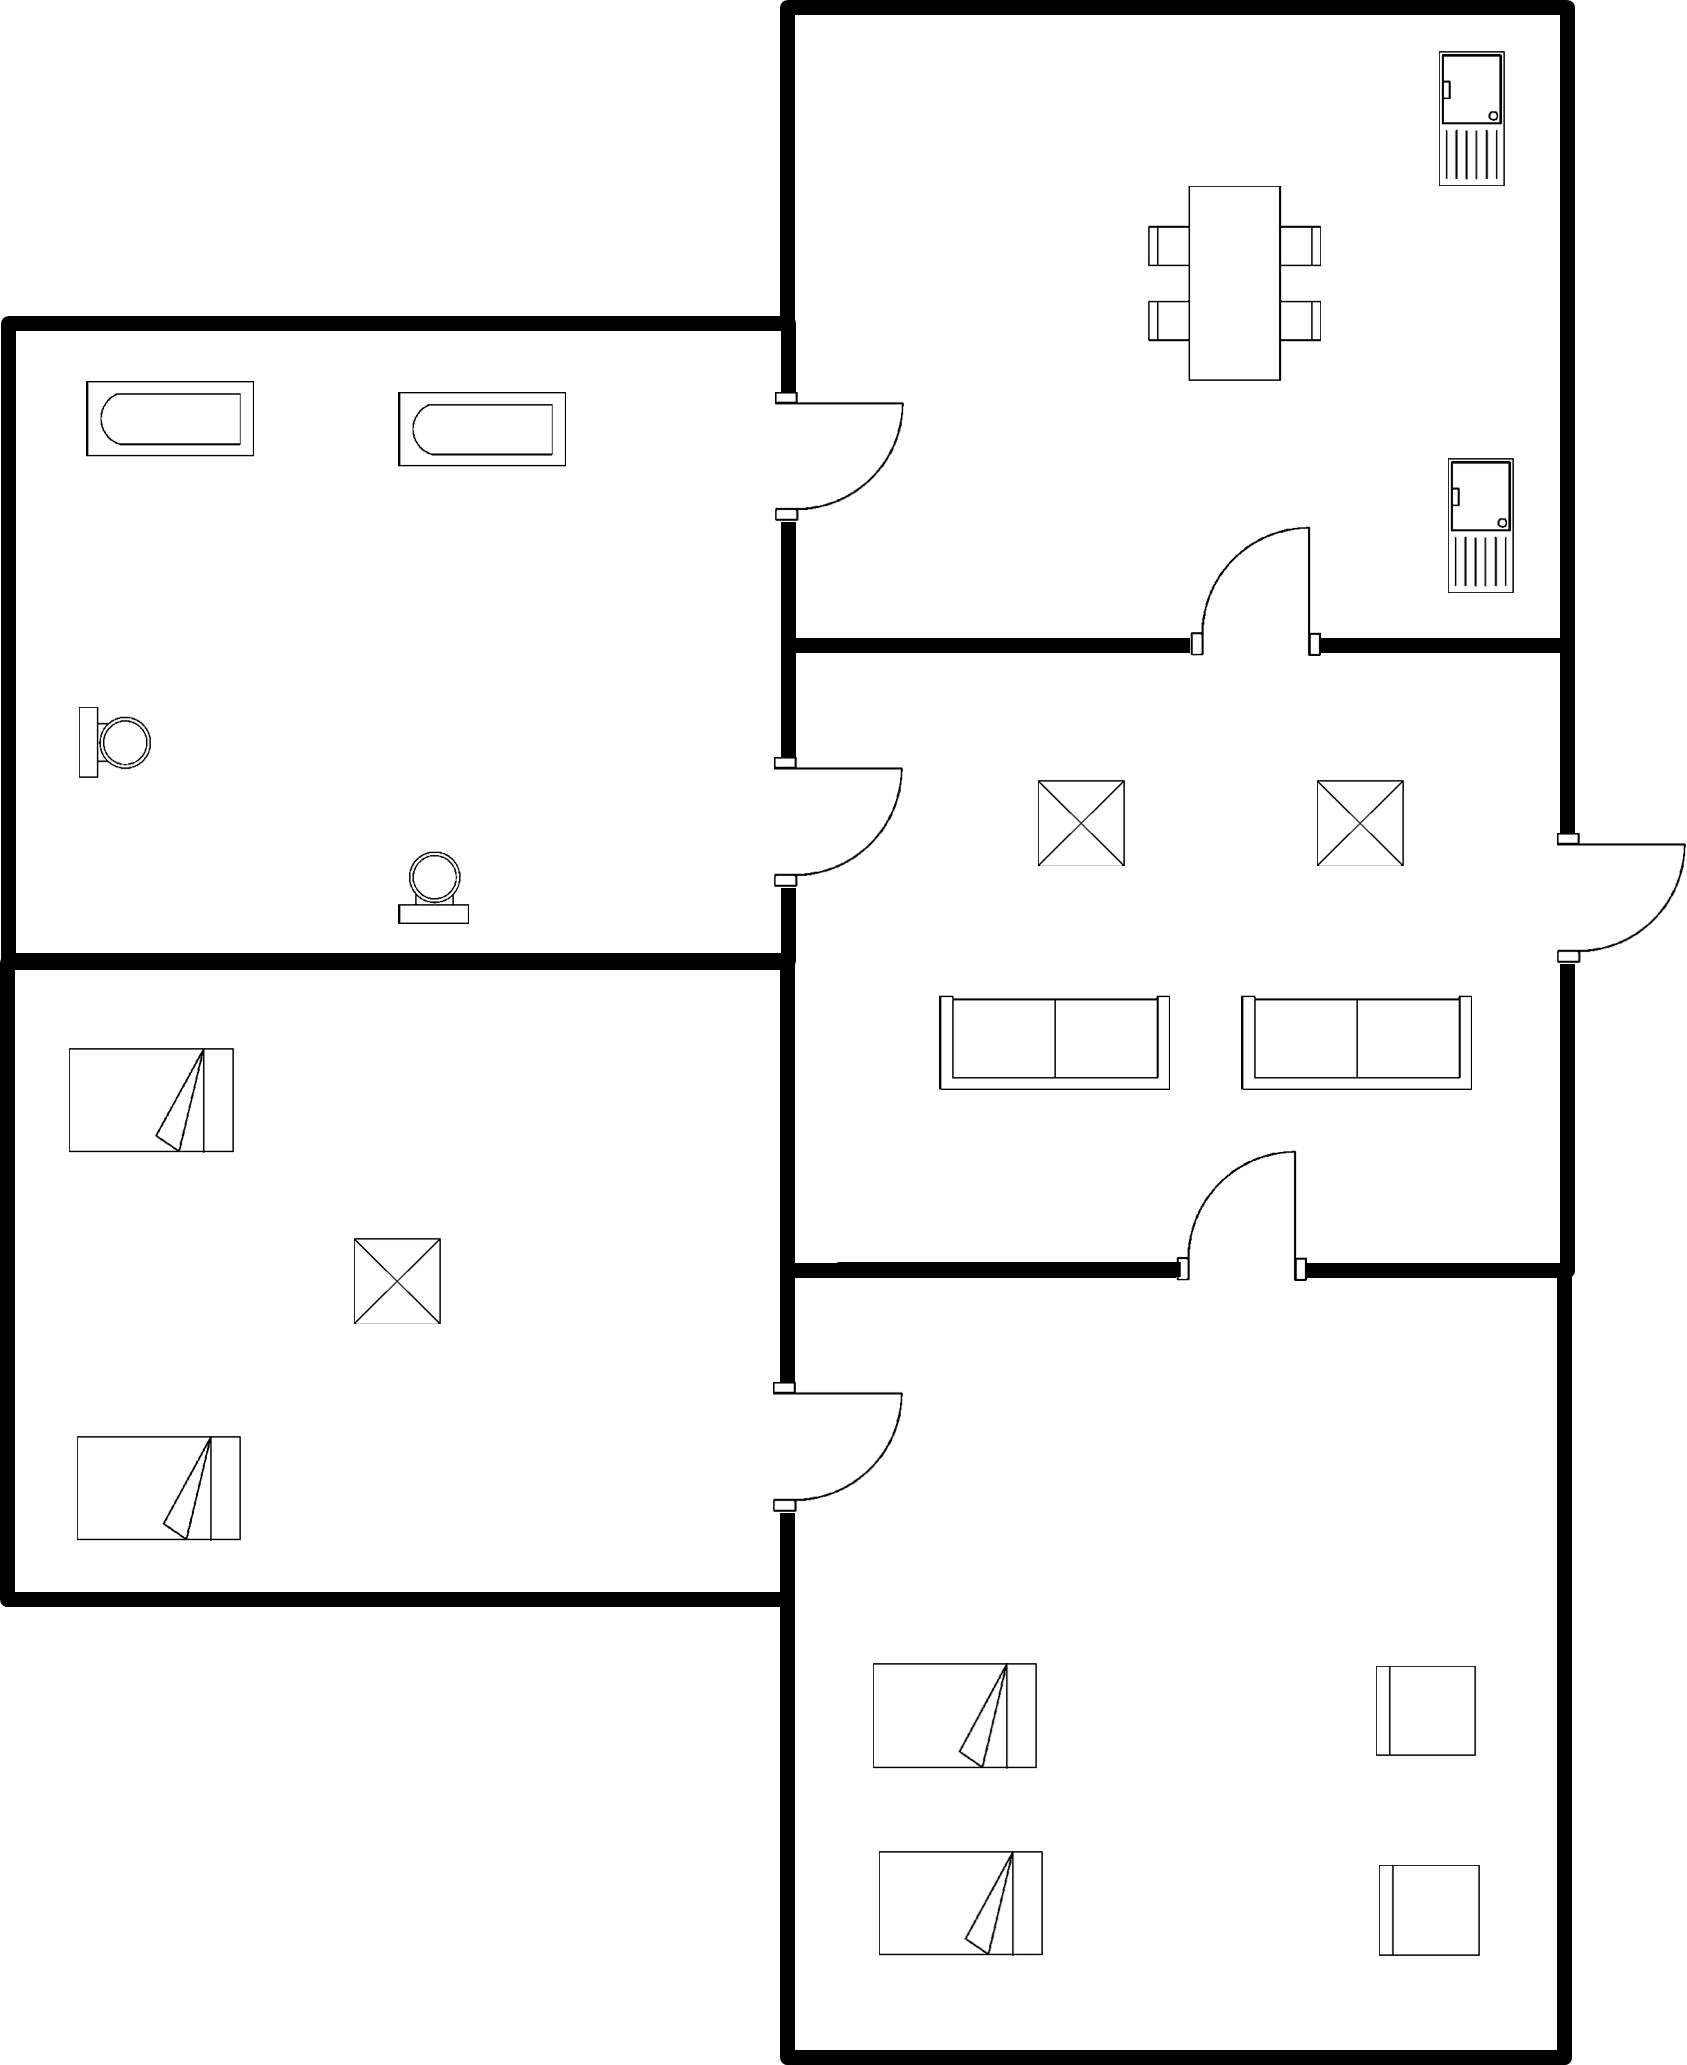bed: (54, 1032, 250, 1171), (858, 1646, 1050, 1789), (862, 1838, 1056, 1969), (58, 1426, 252, 1550)
coffee_table: (1023, 767, 1148, 879), (1301, 769, 1417, 877), (340, 1228, 456, 1334)
dining_table: (1134, 167, 1332, 403)
large_sink: (383, 830, 483, 936), (64, 693, 164, 789)
large_sofa: (1217, 981, 1485, 1108), (921, 985, 1187, 1108)
sink: (1419, 36, 1517, 210)
small_sofa: (1356, 1648, 1493, 1771), (1362, 1852, 1495, 1969)
tub: (70, 367, 264, 475), (383, 375, 581, 479)
